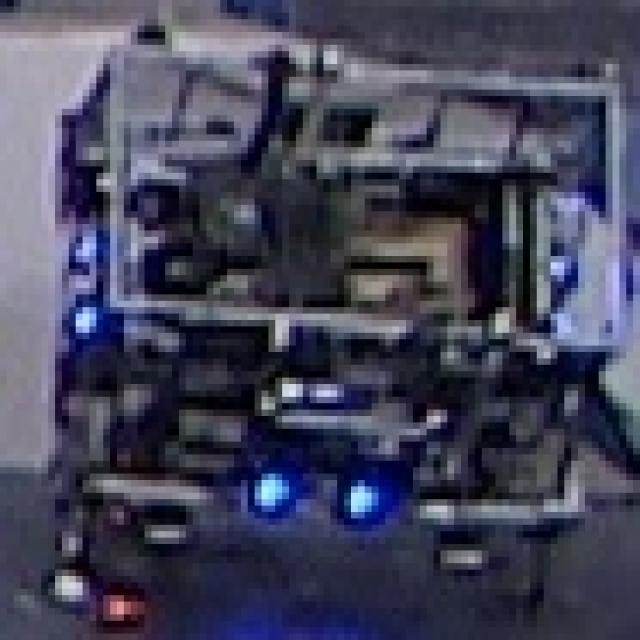B2: (248, 461, 372, 525)
